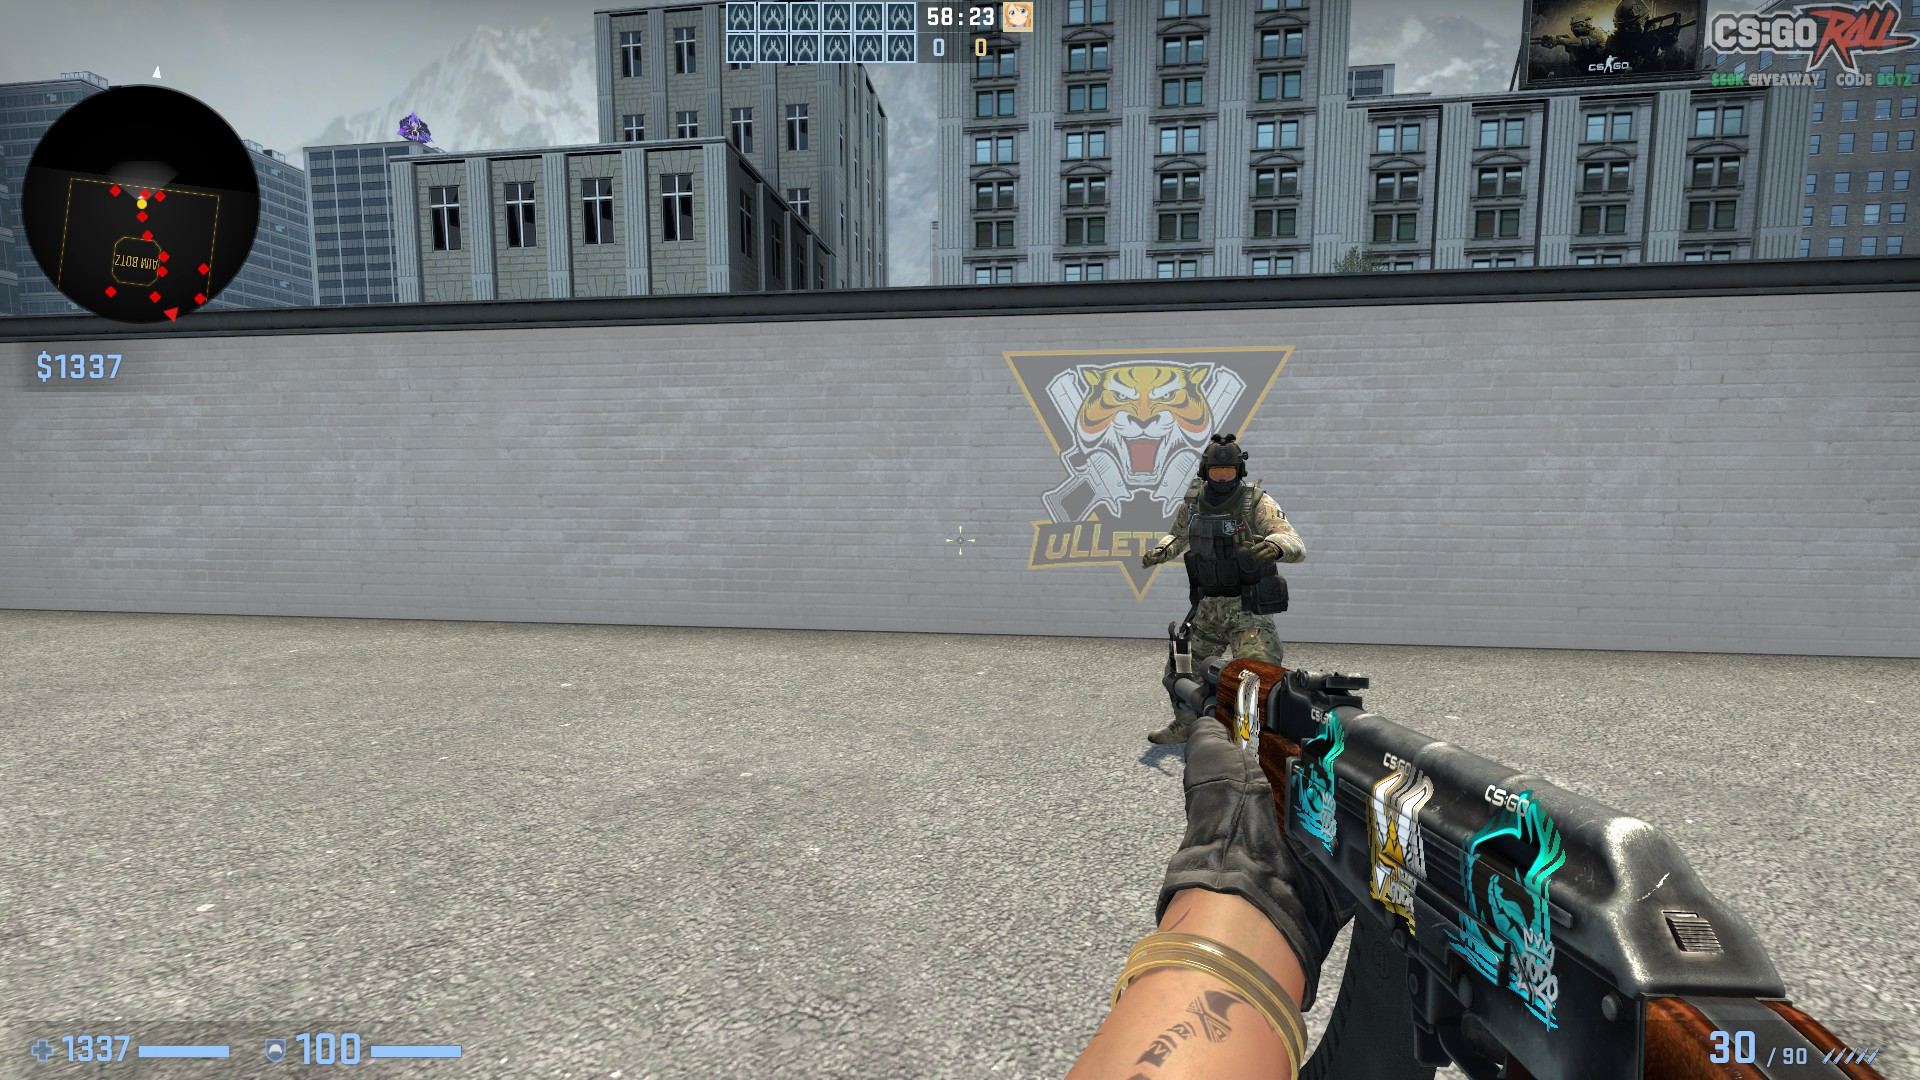head: (1194, 430, 1245, 496)
